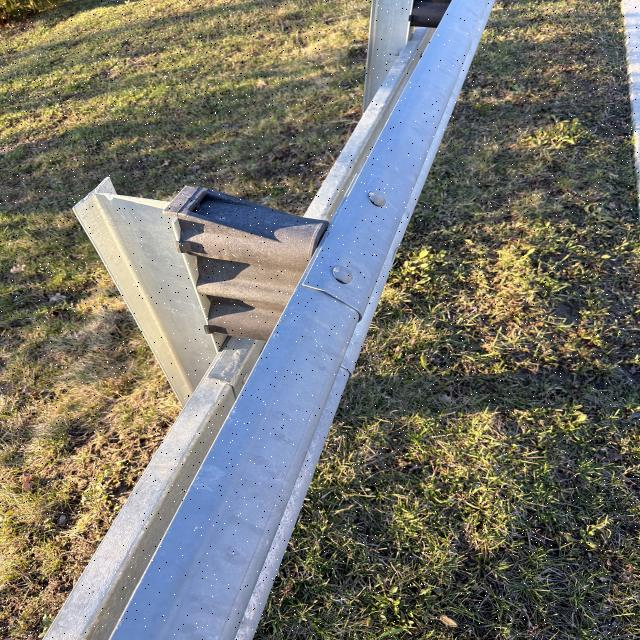Guard rail: (78, 21, 490, 390)
